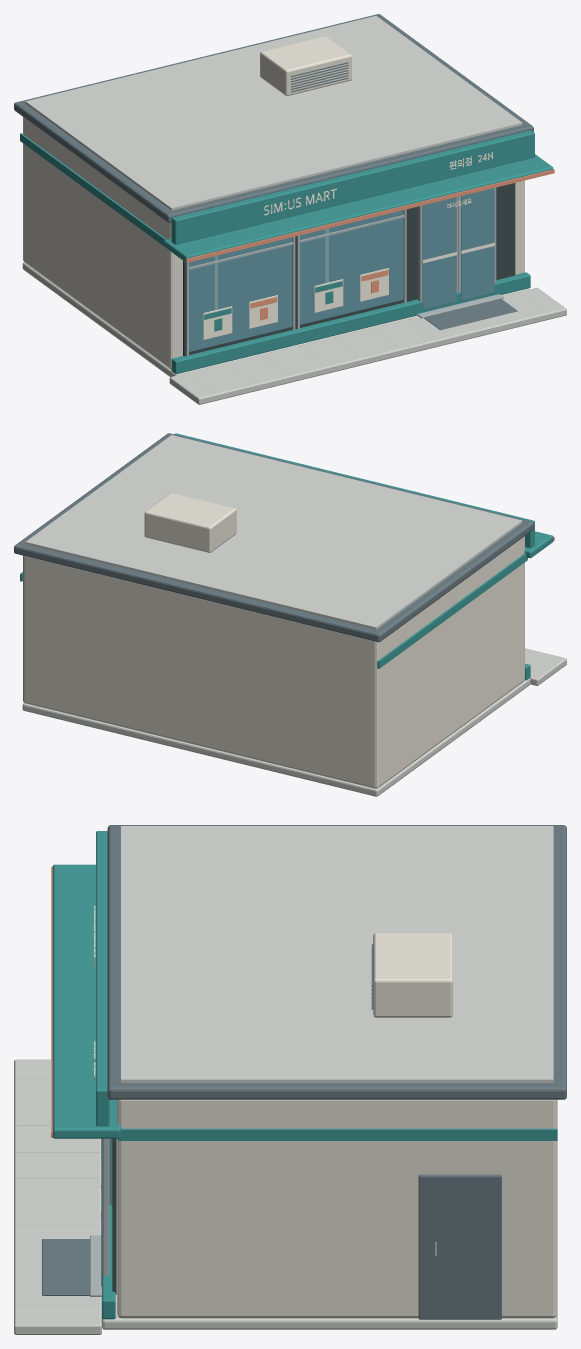
File: SIMUS_Convenience_Store.glb
3 renders of one model, top to bottom at view 1: azimuth 30°, elevation 25°; view 2: azimuth 150°, elevation 25°; view 3: azimuth 270°, elevation 25°, orthographic. The views are drawn at different scales.
Parts seen in each view (by area): view 1: Recessed roof, Main building, Entrance apron, Main fascia, Display glass.001, Display glass, Roof coping, Front canopy, Front plinth, Storefront recess, Roof HVAC, Door glass (+12 smaller); view 2: Main building, Recessed roof, Roof coping, Foundation, Roof HVAC, Side stripe, Entrance apron, Main fascia; view 3: Recessed roof, Main building, Entrance apron, Roof coping, Front canopy, Service door, Roof HVAC, Foundation, Side stripe.001, Main fascia, Entry mat, Door frame.001 (+3 smaller).
Part boxes in pixels (x1,y1,x2,y2): Recessed roof: (25, 16, 522, 210); Main building: (23, 117, 524, 369); Entrance apron: (169, 287, 566, 404); Main fascia: (171, 130, 534, 244); Display glass.001: (296, 210, 403, 325); Display glass: (185, 237, 292, 352); Roof coping: (14, 14, 533, 222); Front canopy: (163, 154, 553, 262); Front plinth: (171, 272, 530, 374); Storefront recess: (183, 183, 515, 356); Roof HVAC: (260, 36, 351, 95); Door glass: (422, 197, 456, 309); Main building: (23, 536, 524, 788); Recessed roof: (25, 435, 522, 629); Roof coping: (14, 433, 533, 642); Foundation: (22, 678, 530, 796); Roof HVAC: (144, 493, 236, 552); Side stripe: (377, 553, 527, 668); Entrance apron: (525, 648, 566, 685); Main fascia: (174, 433, 534, 547); Recessed roof: (121, 826, 553, 1082); Main building: (117, 1099, 557, 1318); Entrance apron: (14, 1059, 101, 1334); Roof coping: (107, 825, 566, 1099); Front canopy: (52, 864, 120, 1138); Service door: (418, 1174, 501, 1319); Roof HVAC: (373, 933, 452, 1017); Foundation: (102, 1139, 557, 1329); Side stripe.001: (117, 1128, 557, 1140); Main fascia: (96, 831, 109, 1126); Entry mat: (42, 1239, 89, 1295); Door frame.001: (102, 1138, 109, 1275).
Size of the model in its own units: 8.3 by 4.19 by 7.29.
